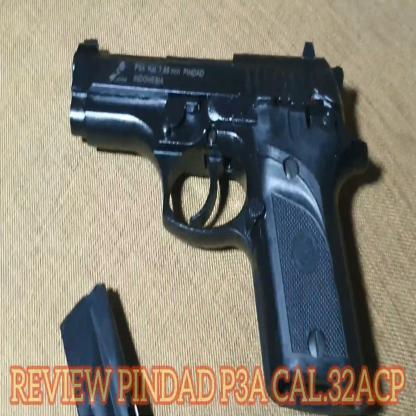handgun: (67, 31, 382, 369)
